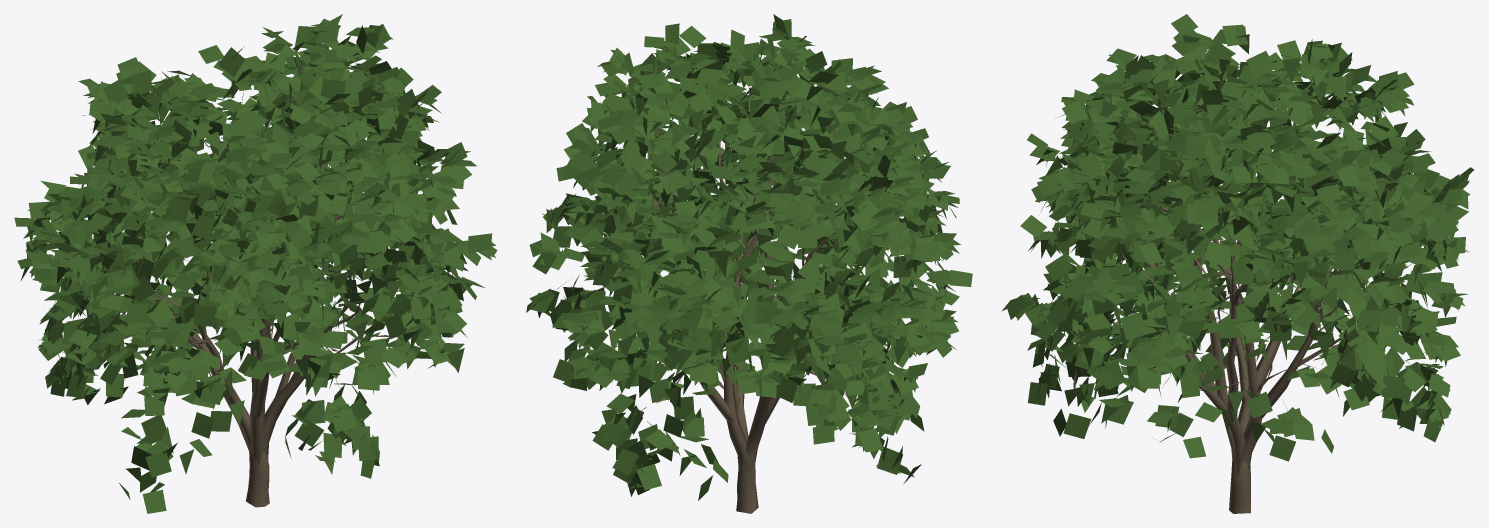
File: tree_broad.glb
3 views of the same model, side by side, from view 1: azimuth 30°, elevation 25°; view 2: azimuth 150°, elevation 25°; view 3: azimuth 270°, elevation 25° (orthographic). The views are drawn at different scales.
Visible parts, largest first — view 1: bq_Tree_Celtis-occidentalis_A_summer, bq_Tree_Celtis-occidentalis_A_summer.001; view 2: bq_Tree_Celtis-occidentalis_A_summer, bq_Tree_Celtis-occidentalis_A_summer.001; view 3: bq_Tree_Celtis-occidentalis_A_summer, bq_Tree_Celtis-occidentalis_A_summer.001.
Part boxes in pixels (bbox=[...]): bq_Tree_Celtis-occidentalis_A_summer: bbox=[14, 14, 497, 513]; bq_Tree_Celtis-occidentalis_A_summer.001: bbox=[71, 59, 433, 507]; bq_Tree_Celtis-occidentalis_A_summer: bbox=[526, 14, 972, 500]; bq_Tree_Celtis-occidentalis_A_summer.001: bbox=[557, 56, 917, 513]; bq_Tree_Celtis-occidentalis_A_summer: bbox=[1002, 14, 1474, 461]; bq_Tree_Celtis-occidentalis_A_summer.001: bbox=[1051, 76, 1423, 513].
Bounding box in the file's own units: 5.32 × 5.9 × 5.41.
